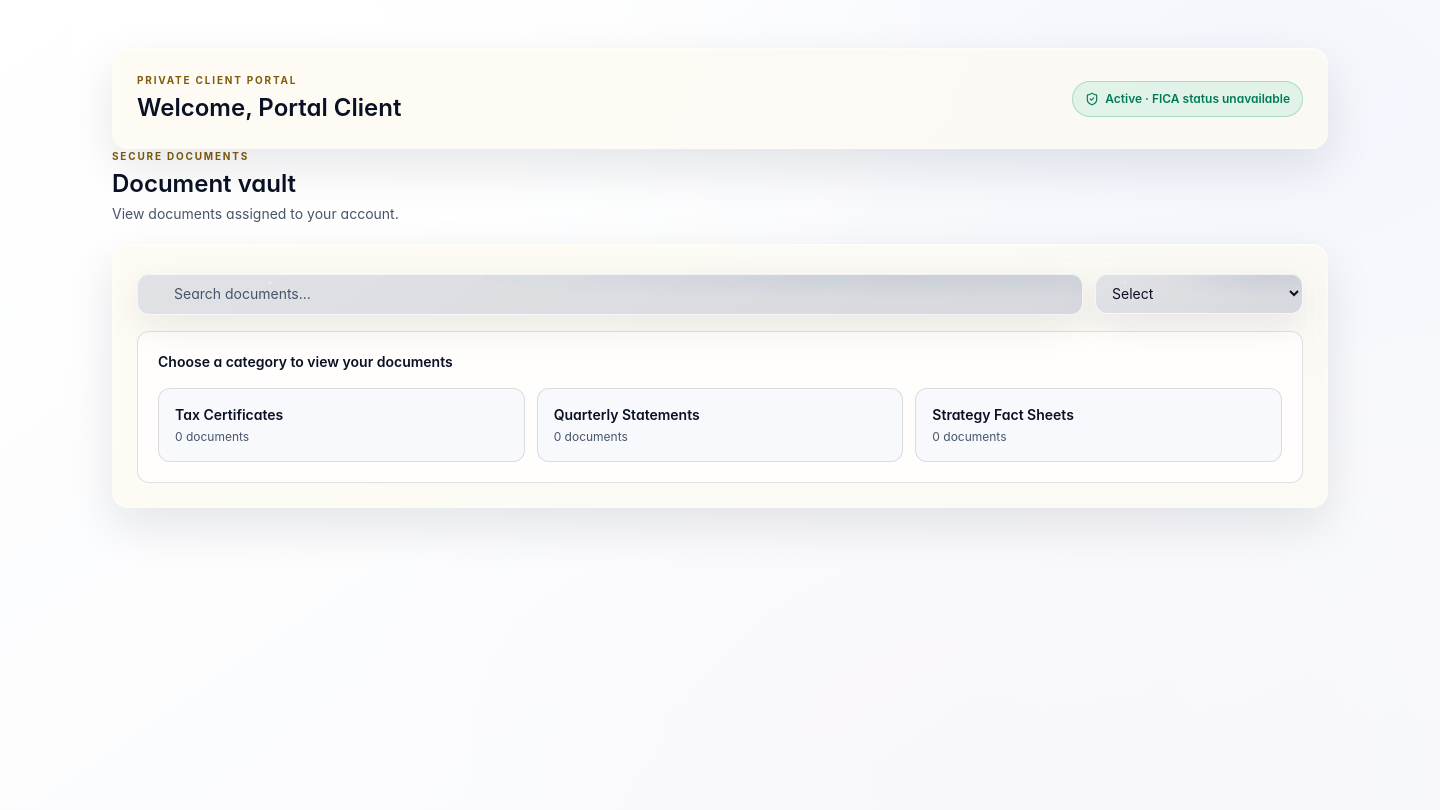
Test: AuthenticatedClientPortal demo data › shows a linked-account empty state without sample rand amounts for non-demo clients
Later steps or results of the test are not shown.
Select "All" in the dropdown named "Filter document category" at (1199,294), box [1095,273,1303,314]
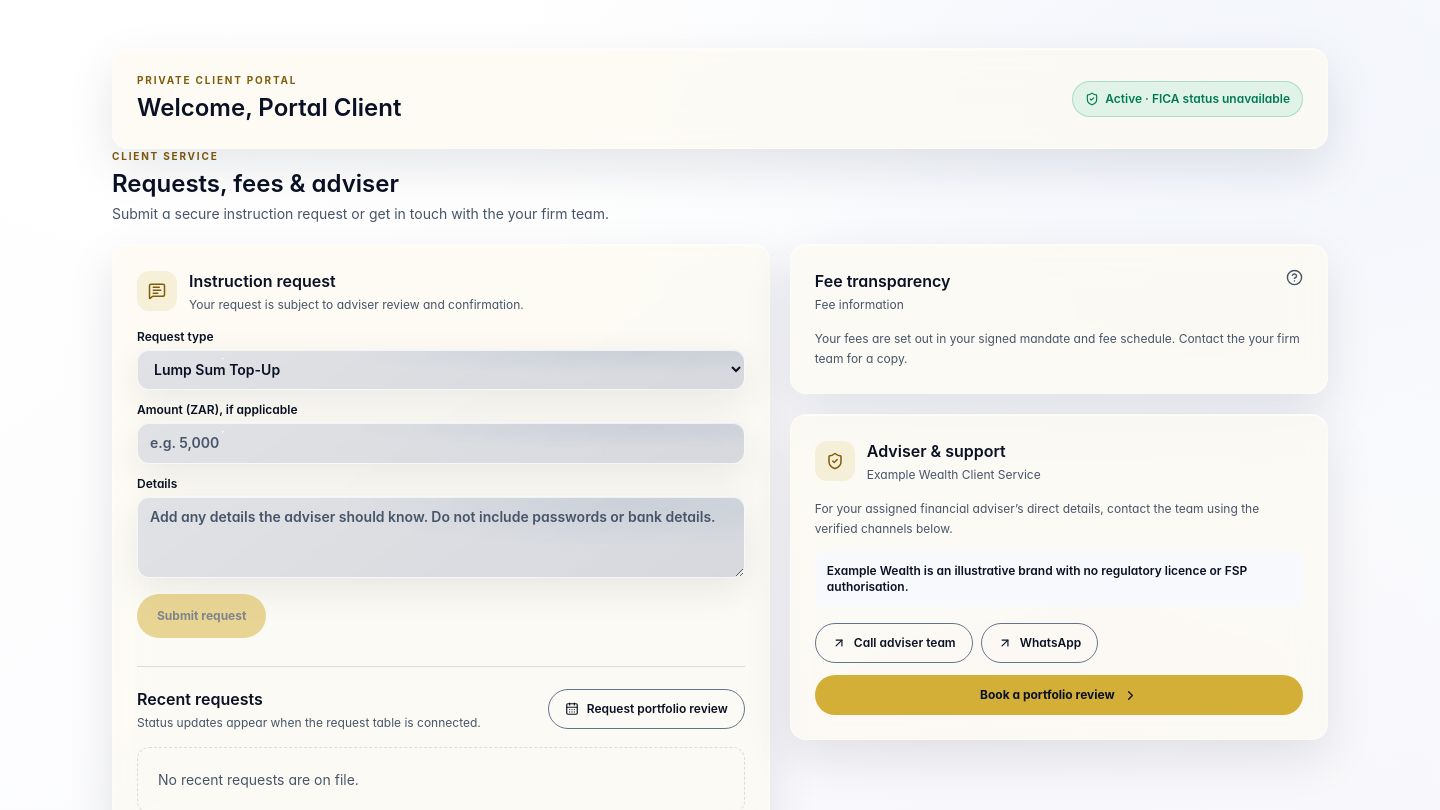
Expected: the text "Your fees are set out in your signed mandate and fee schedule. Contact the your firm team for a copy." is shown, [815,331,1300,366]
